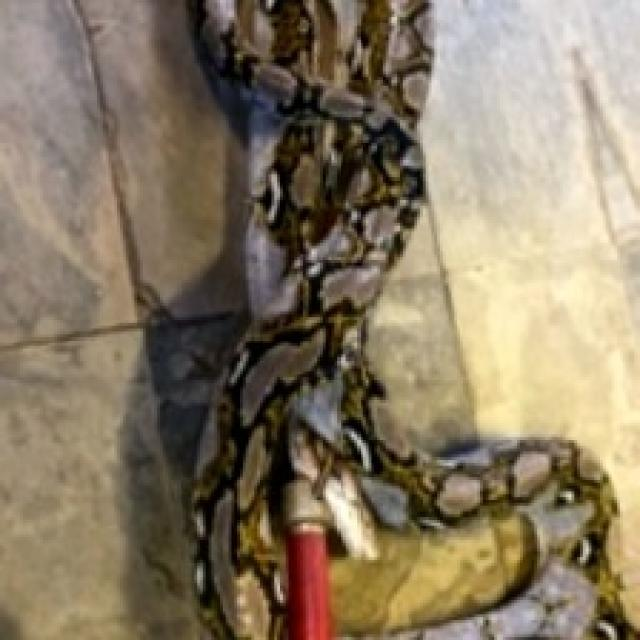reticulated python: (192, 0, 640, 640)
